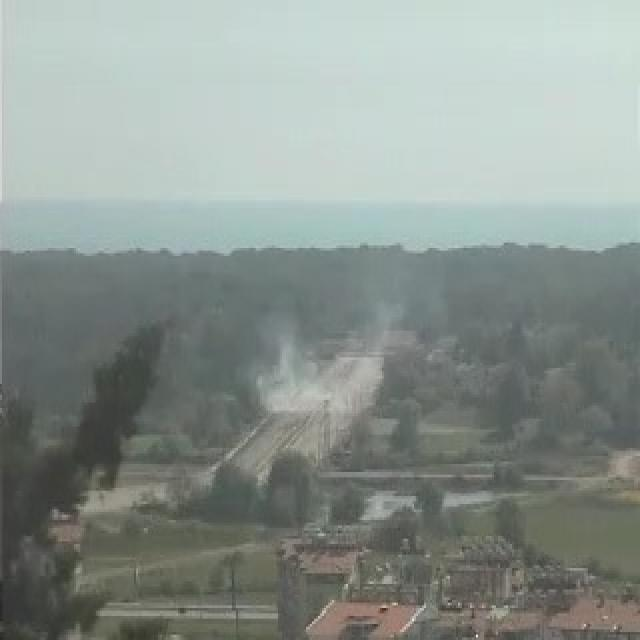smoke: (260, 338, 374, 419)
